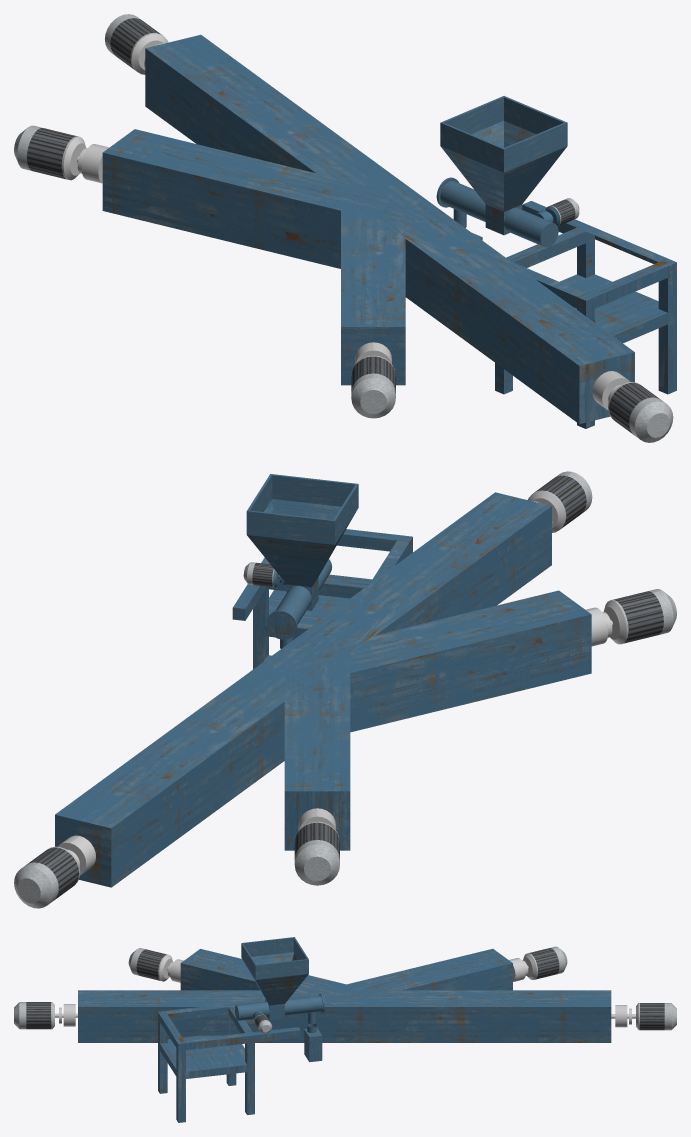
3 views of the same model, one above another, from view 1: azimuth 30°, elevation 25°; view 2: azimuth 150°, elevation 25°; view 3: azimuth 270°, elevation 25° (orthographic). The views are drawn at different scales.
Parts seen in each view (by area): view 1: root.001, root.002, root.004, root.003, root; view 2: root.001, root.002, root.004, root.003, root; view 3: root.001, root.002, root.004, root, root.003.
Part boxes in pixels (x1,y1,x2,y2): root.001: (102,34,676,428); root.002: (436,96,567,247); root.004: (27,18,660,435); root.003: (14,14,673,442); root: (63,33,629,409); root.001: (55,492,591,887); root.002: (246,474,358,661); root.004: (26,475,663,900); root.003: (14,471,676,908); root: (57,491,626,875); root.001: (78,948,611,1122); root.002: (235,937,324,1062); root.004: (26,948,664,1030); root: (52,953,638,1029); root.003: (14,946,676,1033).
Size of the model in its own units: 3.19 by 2 by 8.38.
Materials: 4 (3 with a texture image).
